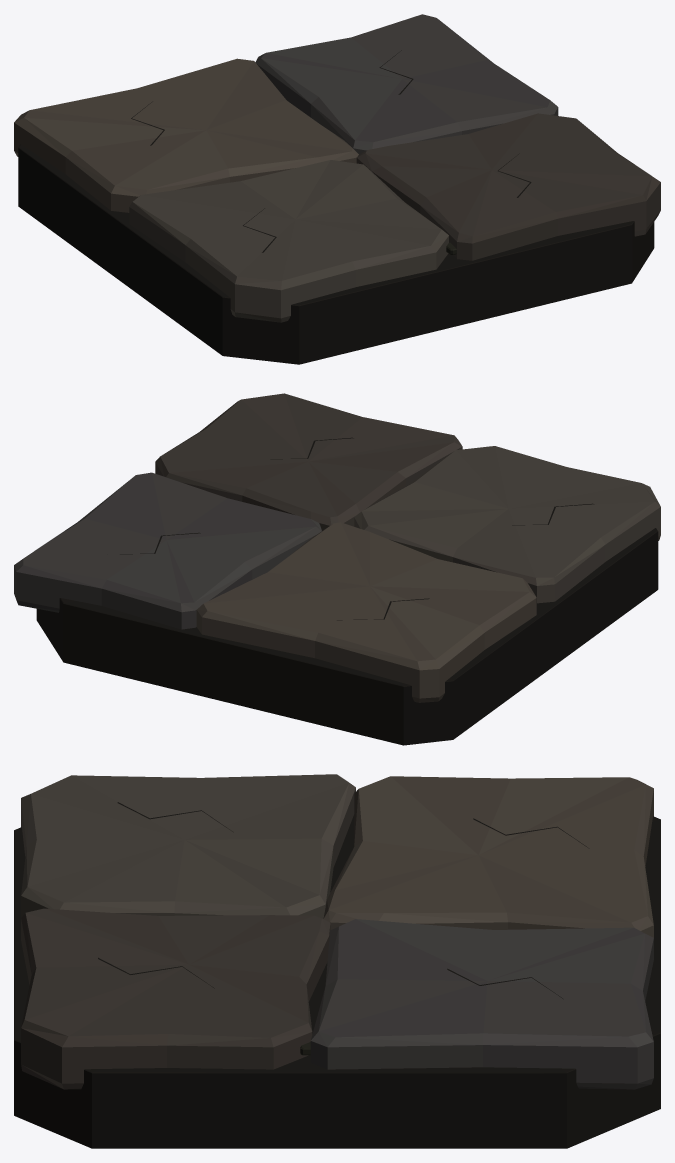
The model's file is Floor_Stone_C.fbx.
The picture shows the model from 3 angles, top to bottom: view 1: azimuth 30°, elevation 25°; view 2: azimuth 150°, elevation 25°; view 3: azimuth 270°, elevation 25°; orthographic projection. The views are drawn at different scales.
Visible parts, largest first — view 1: Floor_Stone_C; view 2: Floor_Stone_C; view 3: Floor_Stone_C.
Part boxes in pixels (x1,y1,x2,y2): Floor_Stone_C: (14,14,660,364); Floor_Stone_C: (14,393,660,745); Floor_Stone_C: (14,774,660,1148).
Size of the model in its own units: 1 by 0.1804 by 1.
Materials: 1 (1 with a texture image).
